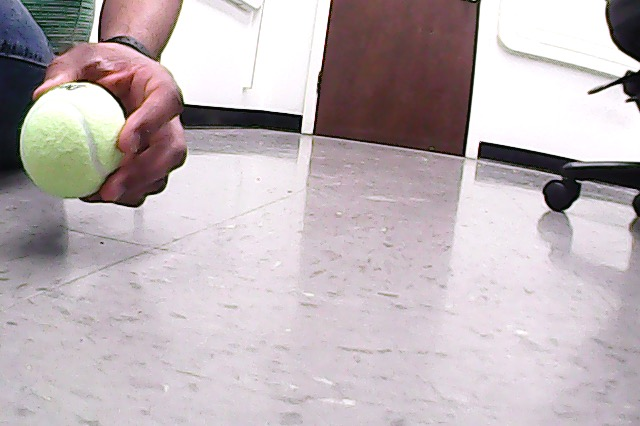ball: (20, 82, 127, 200)
